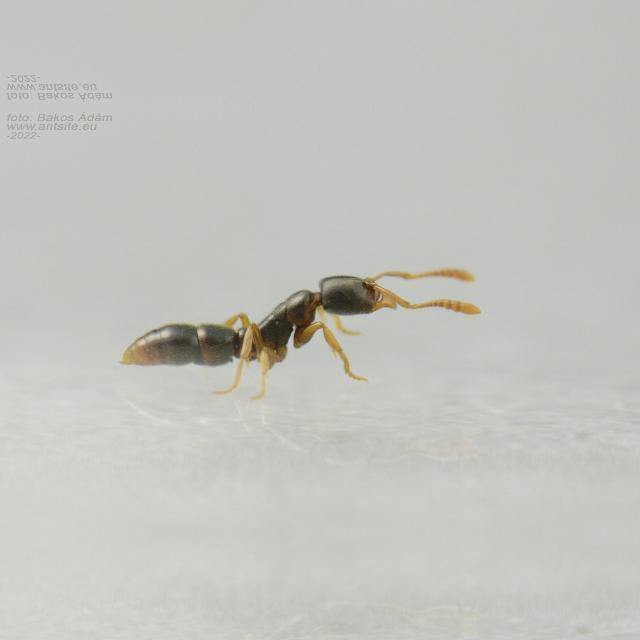Ponera: (109, 243, 439, 389)
